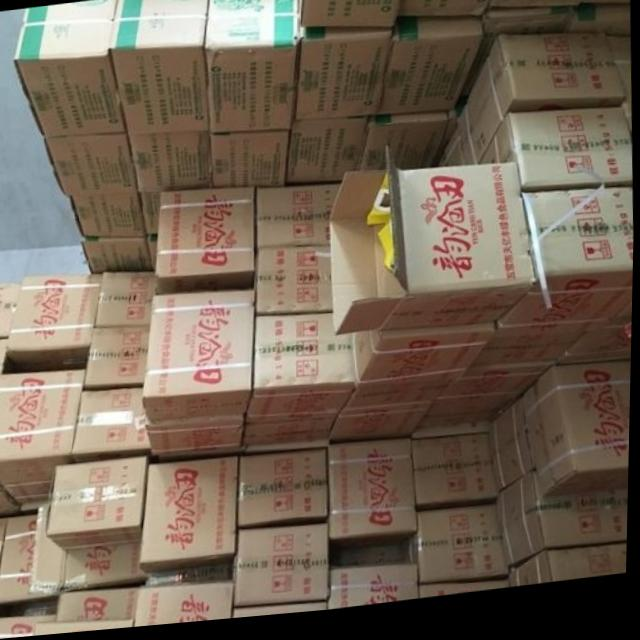box: (330, 152, 536, 341), (472, 193, 635, 374), (463, 40, 627, 172), (144, 293, 258, 428), (17, 0, 126, 139), (523, 372, 633, 507), (108, 0, 212, 137), (454, 12, 581, 124), (204, 0, 298, 136), (500, 479, 631, 575), (478, 118, 633, 199), (245, 317, 357, 428), (141, 459, 240, 576), (378, 22, 483, 121), (156, 194, 255, 296), (0, 369, 87, 485), (49, 459, 151, 557), (293, 27, 393, 126), (353, 335, 497, 402), (8, 273, 106, 362), (332, 443, 419, 543), (235, 529, 331, 609), (240, 450, 332, 533), (0, 503, 73, 602), (418, 511, 510, 589), (72, 386, 155, 465), (561, 286, 634, 370), (42, 136, 136, 200), (284, 122, 368, 193), (414, 442, 498, 512), (330, 398, 447, 448), (255, 250, 335, 319), (255, 192, 343, 254), (513, 551, 630, 596), (360, 119, 447, 177), (127, 136, 211, 194), (136, 583, 237, 630), (211, 135, 290, 195), (441, 370, 561, 406), (490, 409, 536, 502), (149, 418, 247, 461), (64, 545, 149, 594), (416, 405, 522, 443), (331, 571, 422, 614), (86, 328, 151, 387), (70, 192, 147, 241), (302, 0, 402, 34), (97, 273, 156, 329), (244, 425, 340, 456), (56, 590, 146, 622), (84, 239, 155, 277), (437, 117, 478, 174), (565, 12, 631, 46), (396, 0, 493, 23), (488, 0, 587, 15), (0, 280, 23, 338), (581, 0, 630, 13)
